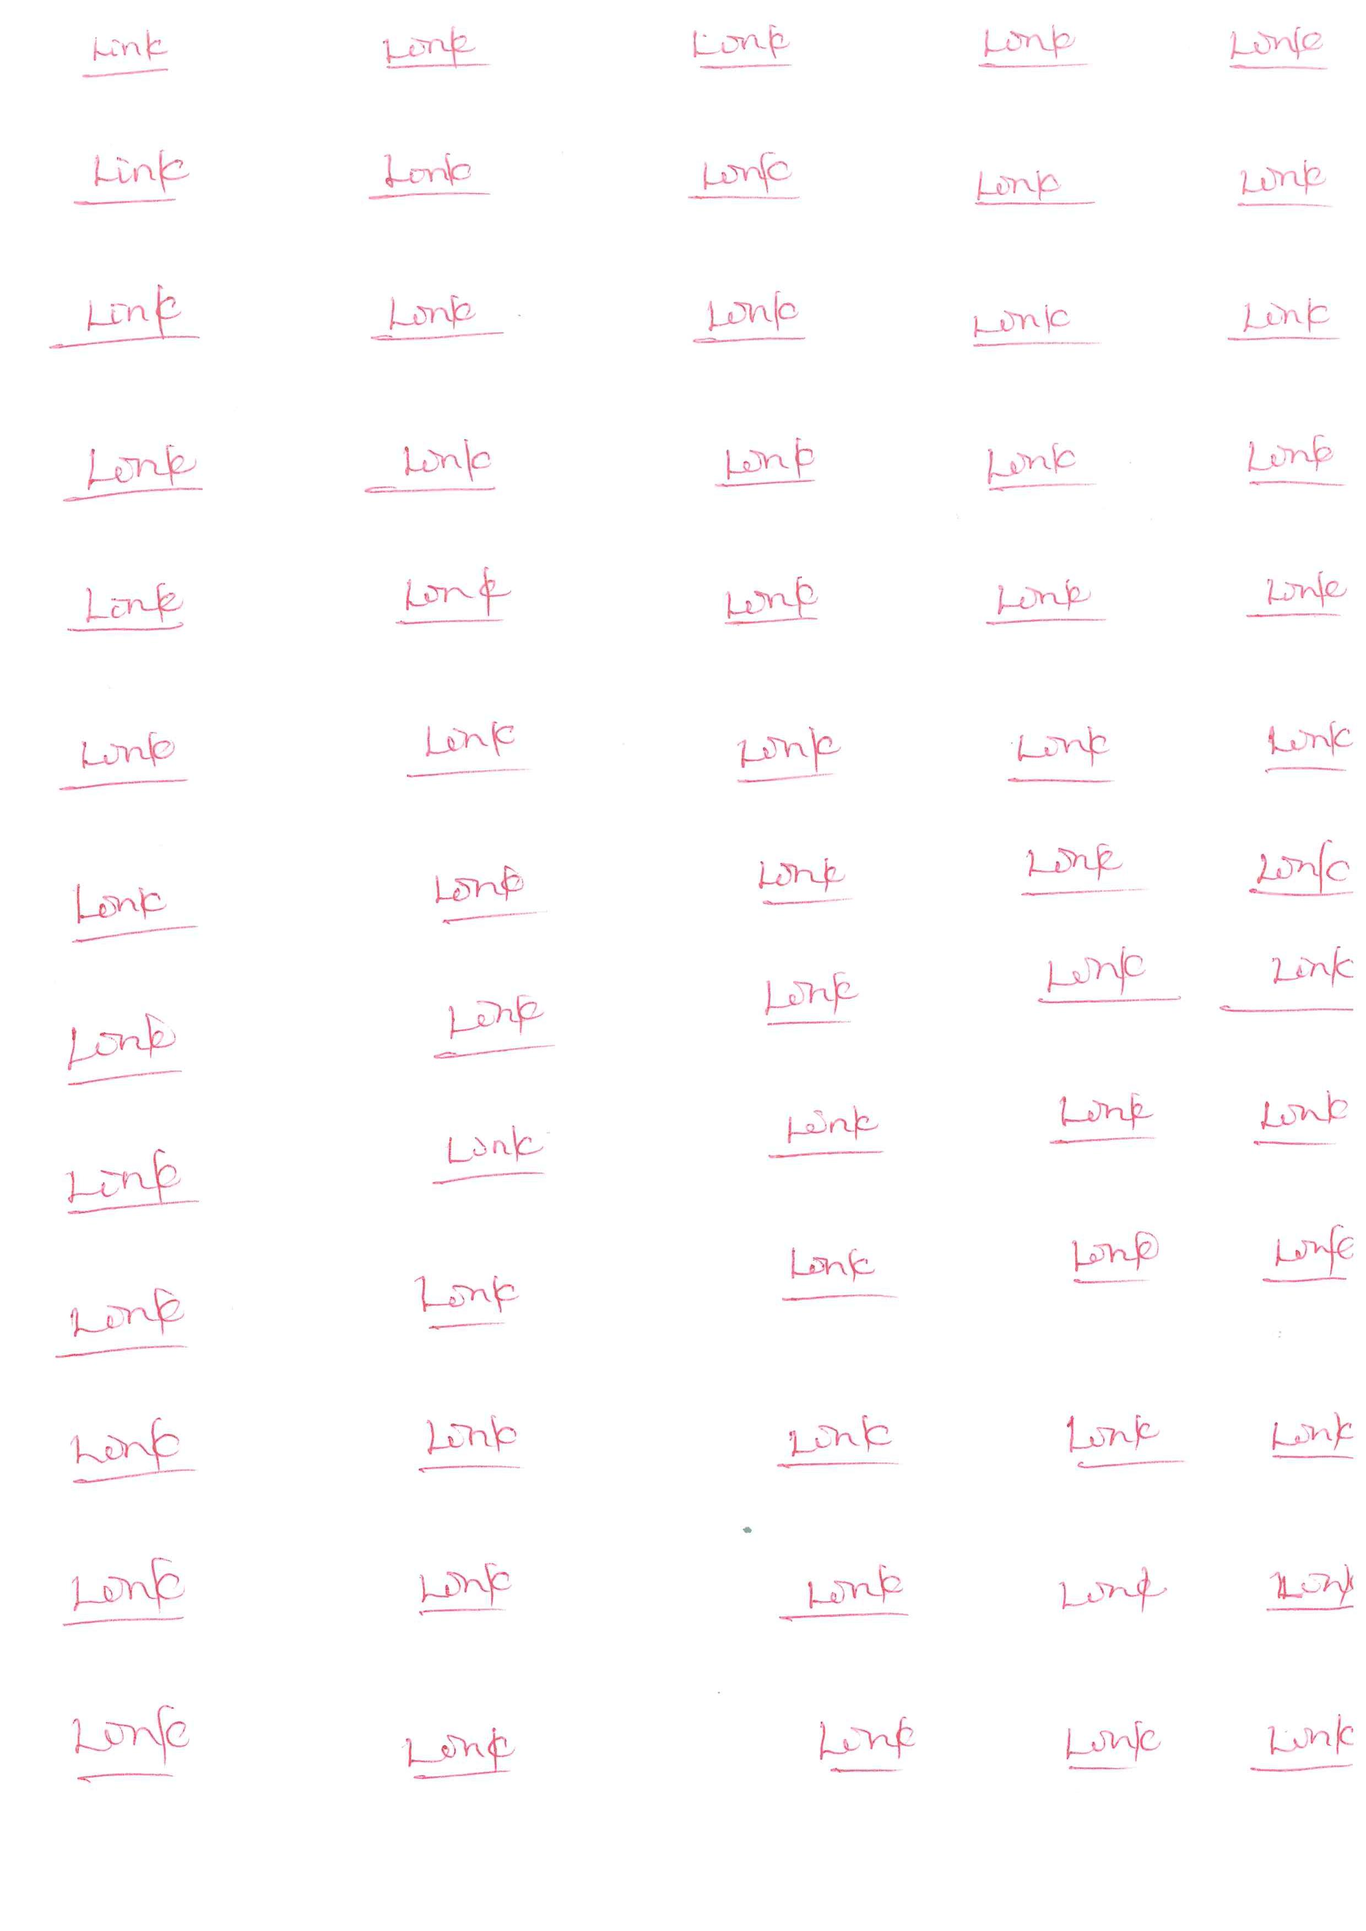Link: (65, 1697, 198, 1788), (53, 1552, 192, 1638), (47, 282, 201, 353), (430, 988, 556, 1073), (55, 1285, 185, 1360), (64, 1008, 182, 1091), (56, 883, 195, 951), (64, 1146, 194, 1218), (359, 435, 503, 498), (778, 1561, 909, 1629), (404, 1717, 523, 1791), (61, 444, 205, 503), (69, 1416, 182, 1490), (1036, 946, 1165, 1008), (71, 145, 195, 208), (59, 729, 180, 794), (815, 1706, 924, 1776), (435, 1119, 548, 1186), (1248, 1709, 1351, 1782), (398, 566, 519, 627), (775, 1411, 899, 1470), (404, 720, 525, 779), (1246, 835, 1356, 900), (370, 293, 507, 345), (733, 722, 841, 787), (1251, 1076, 1359, 1141), (365, 149, 489, 206), (1254, 1226, 1366, 1288), (432, 861, 537, 926), (772, 1103, 887, 1162), (412, 1552, 509, 1623), (1019, 838, 1128, 899), (1005, 724, 1112, 787), (1056, 1717, 1156, 1782), (690, 290, 804, 346), (65, 581, 185, 634), (1260, 1558, 1362, 1621), (417, 1412, 520, 1473), (686, 149, 798, 203), (1048, 1091, 1155, 1147), (761, 968, 860, 1028), (1064, 1411, 1163, 1470), (418, 1275, 519, 1332), (784, 1243, 877, 1306), (1242, 433, 1342, 489), (970, 303, 1097, 347), (1051, 1570, 1156, 1623), (1069, 1229, 1165, 1286), (713, 436, 816, 489), (992, 577, 1098, 628), (720, 574, 819, 628), (982, 442, 1087, 492), (1263, 719, 1356, 775), (1234, 157, 1332, 210), (971, 167, 1095, 208), (979, 24, 1084, 72), (690, 21, 791, 71), (1227, 22, 1326, 72), (755, 856, 852, 908), (381, 27, 492, 71), (1226, 297, 1336, 342), (1270, 1411, 1360, 1462), (80, 30, 173, 78), (1257, 569, 1350, 618)
